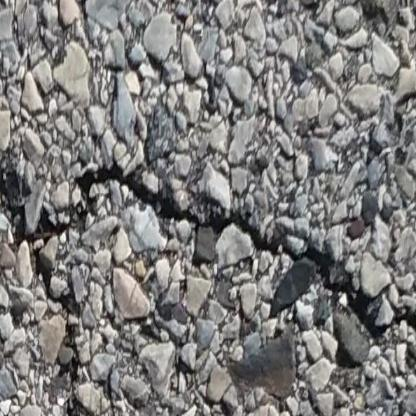Cracks: (0, 161, 416, 416)
